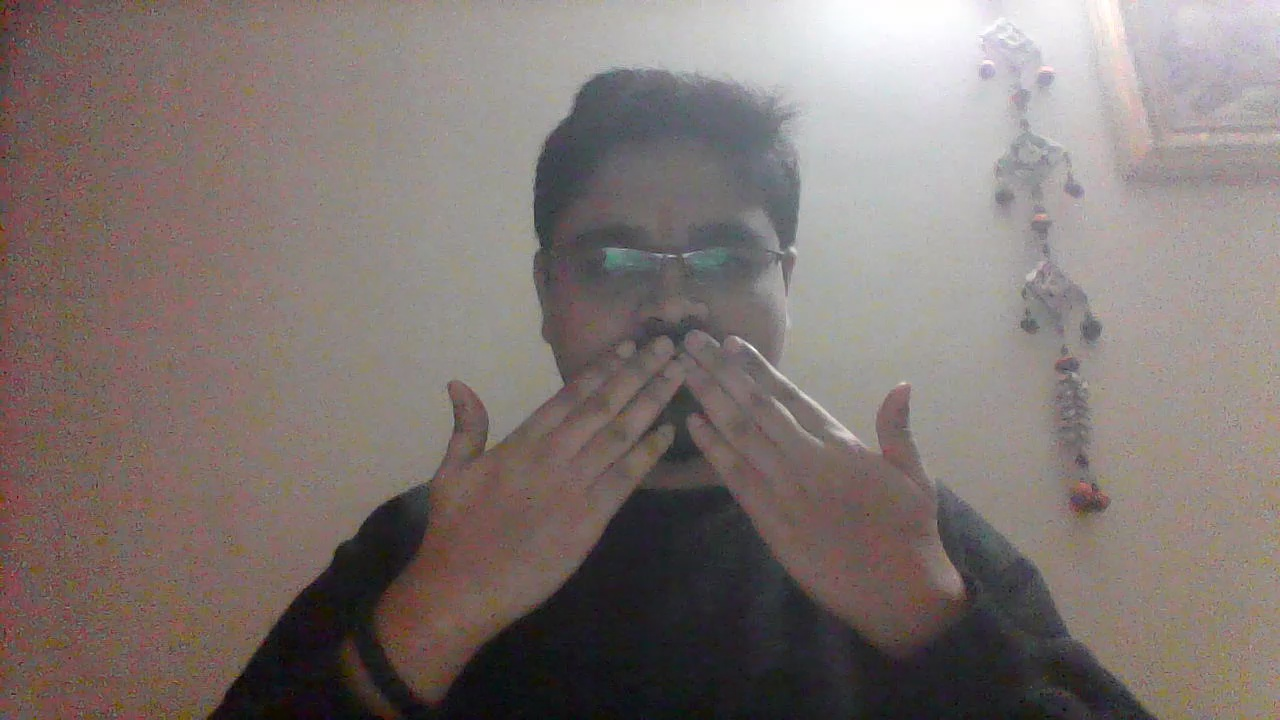Thanks: (390, 326, 944, 632)
